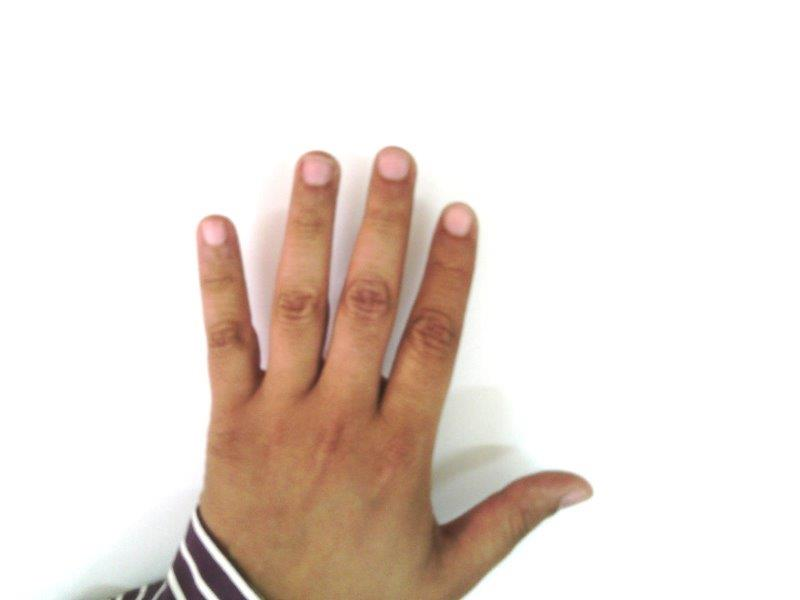hand: (197, 148, 594, 600)
